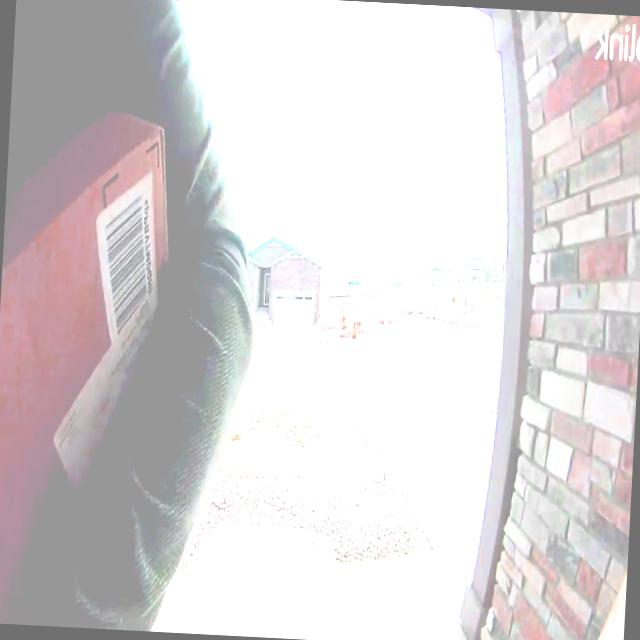Box: (0, 101, 170, 481)
